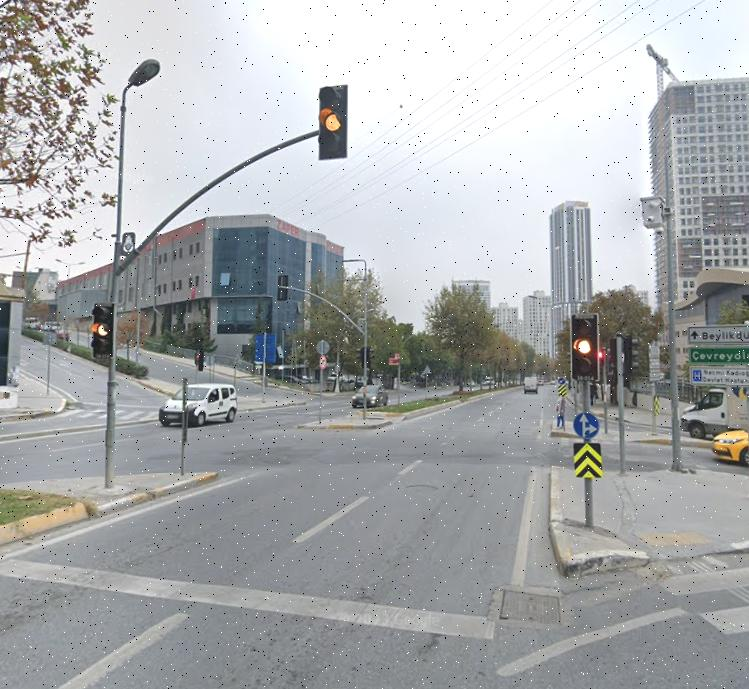redlight: (598, 346, 609, 386)
yellowlight: (317, 85, 346, 161), (572, 315, 598, 381), (90, 303, 115, 357)
